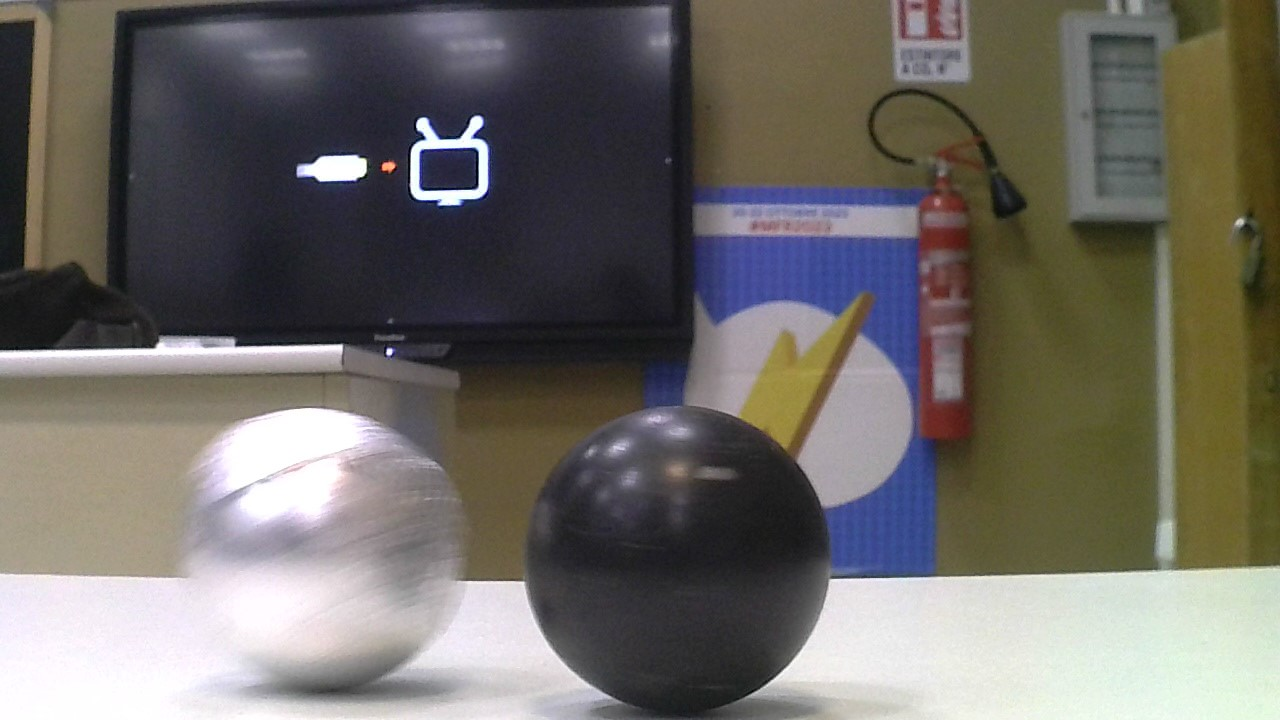black_ball: (523, 405, 841, 713)
silver_ball: (179, 408, 471, 703)
